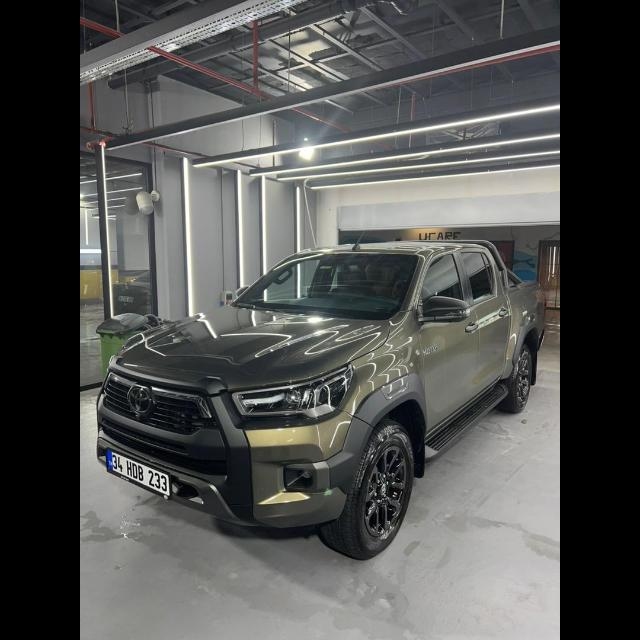Plaka: (108, 448, 170, 494)
